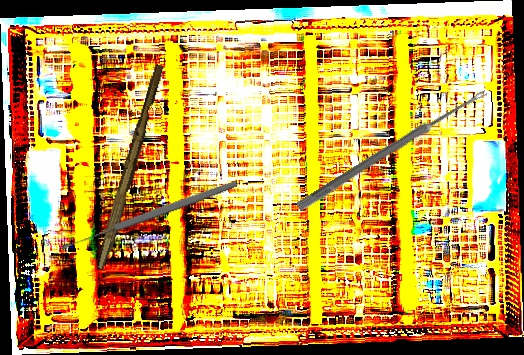Scalpel Handle: (95, 62, 166, 273)
Surgical Spoon: (295, 86, 489, 213), (60, 178, 240, 252)
